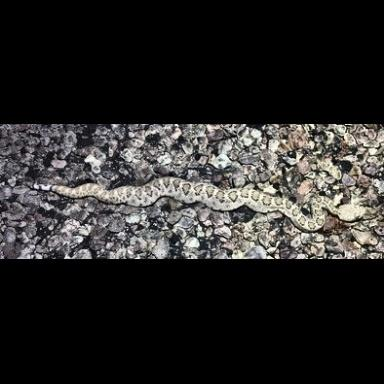snake: (0, 124, 384, 259)
